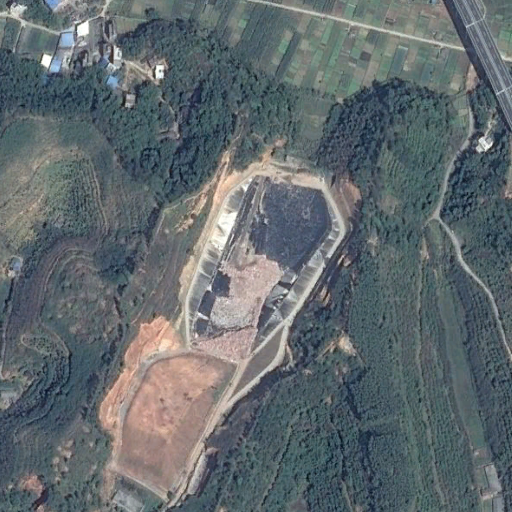lf: (194, 171, 340, 362)
